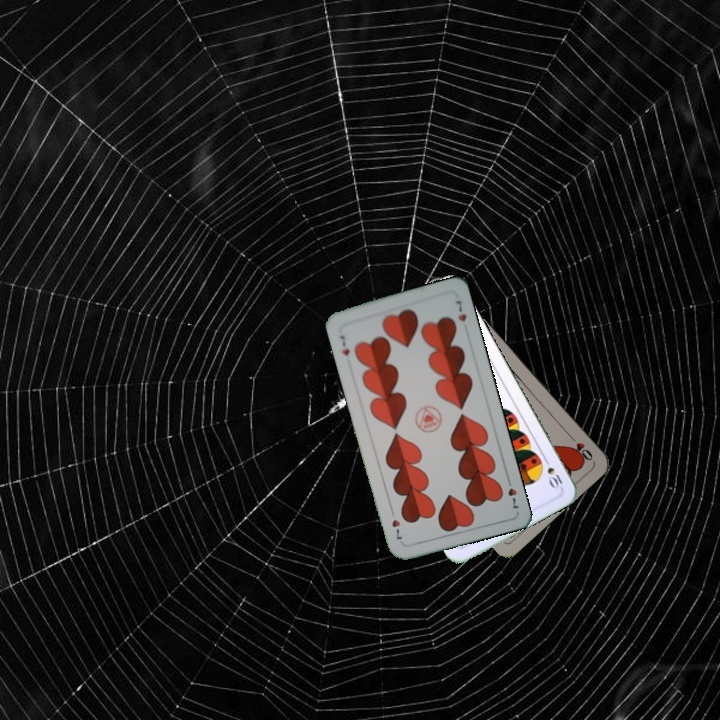H7: (503, 473, 522, 511), (336, 331, 352, 358)
HO: (564, 430, 596, 463)
S10: (540, 453, 565, 491)
